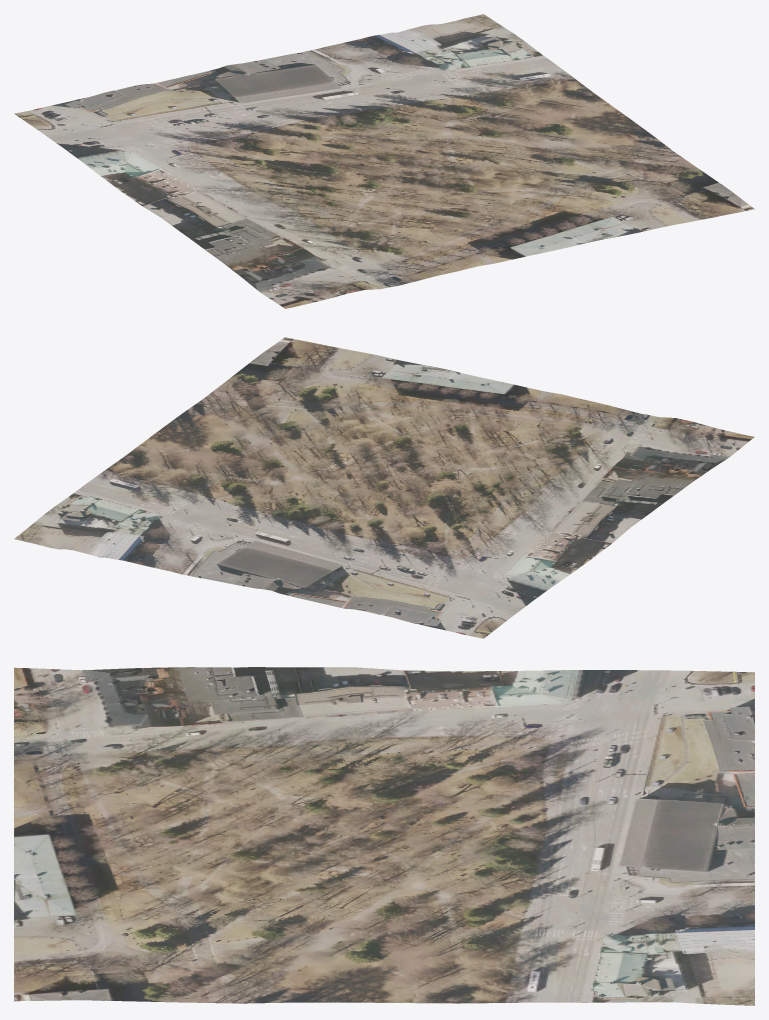
Rendered from CM_Terrain_24486363_6820818.fbx.
The picture shows the model from 3 angles, top to bottom: view 1: azimuth 30°, elevation 25°; view 2: azimuth 150°, elevation 25°; view 3: azimuth 270°, elevation 25°; orthographic projection. The views are drawn at different scales.
Parts seen in each view (by area): view 1: CM_Terrain_24486363_6820818_LOD0; view 2: CM_Terrain_24486363_6820818_LOD0; view 3: CM_Terrain_24486363_6820818_LOD0.
Boxes of the visible parts, <box> form: CM_Terrain_24486363_6820818_LOD0: <box>14,14,754,308</box>; CM_Terrain_24486363_6820818_LOD0: <box>14,337,754,638</box>; CM_Terrain_24486363_6820818_LOD0: <box>14,667,754,1005</box>.
Size of what is drawn, in the model's own units: 205 by 7.9 by 205.
